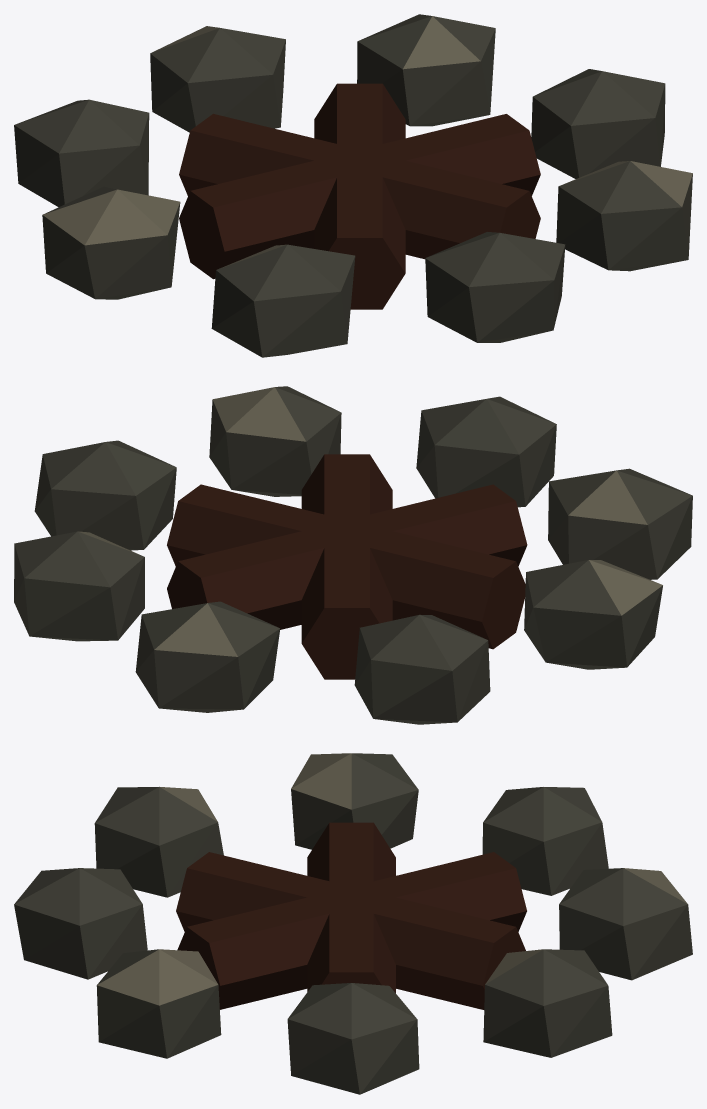
File: Extra_Campfire_01.fbx
The picture shows the model from 3 angles, top to bottom: view 1: azimuth 30°, elevation 25°; view 2: azimuth 150°, elevation 25°; view 3: azimuth 270°, elevation 25°; orthographic projection. The views are drawn at different scales.
Visible parts, largest first — view 1: Extra_Campfire_01_Mesh; view 2: Extra_Campfire_01_Mesh; view 3: Extra_Campfire_01_Mesh.
Part boxes in pixels (x1,y1,x2,y2): Extra_Campfire_01_Mesh: [14, 14, 692, 357]; Extra_Campfire_01_Mesh: [14, 386, 692, 724]; Extra_Campfire_01_Mesh: [14, 753, 692, 1094].
Size of the model in its own units: 1.15 by 0.2 by 1.15.
Materials: 1 (1 with a texture image).
